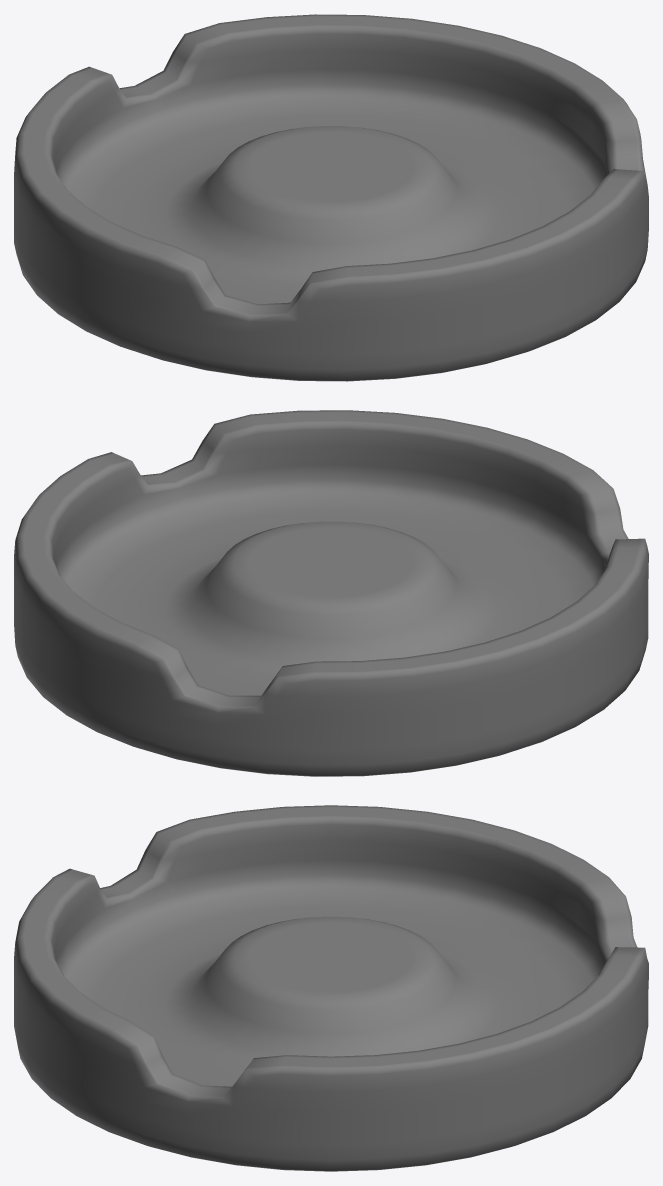
The model's file is SM_Ashtray.fbx.
3 views of the same model, one above another, from view 1: azimuth 30°, elevation 25°; view 2: azimuth 150°, elevation 25°; view 3: azimuth 270°, elevation 25° (orthographic).
Visible parts, largest first — view 1: SM_Ashtray_mesh; view 2: SM_Ashtray_mesh; view 3: SM_Ashtray_mesh.
Boxes of the visible parts, x1,y1,x2,y2 form: SM_Ashtray_mesh: [14, 14, 648, 381]; SM_Ashtray_mesh: [14, 410, 648, 776]; SM_Ashtray_mesh: [14, 805, 648, 1171].
Size of the model in its own units: 0.1285 by 0.0234 by 0.1286.
1 material, 1 textured.
